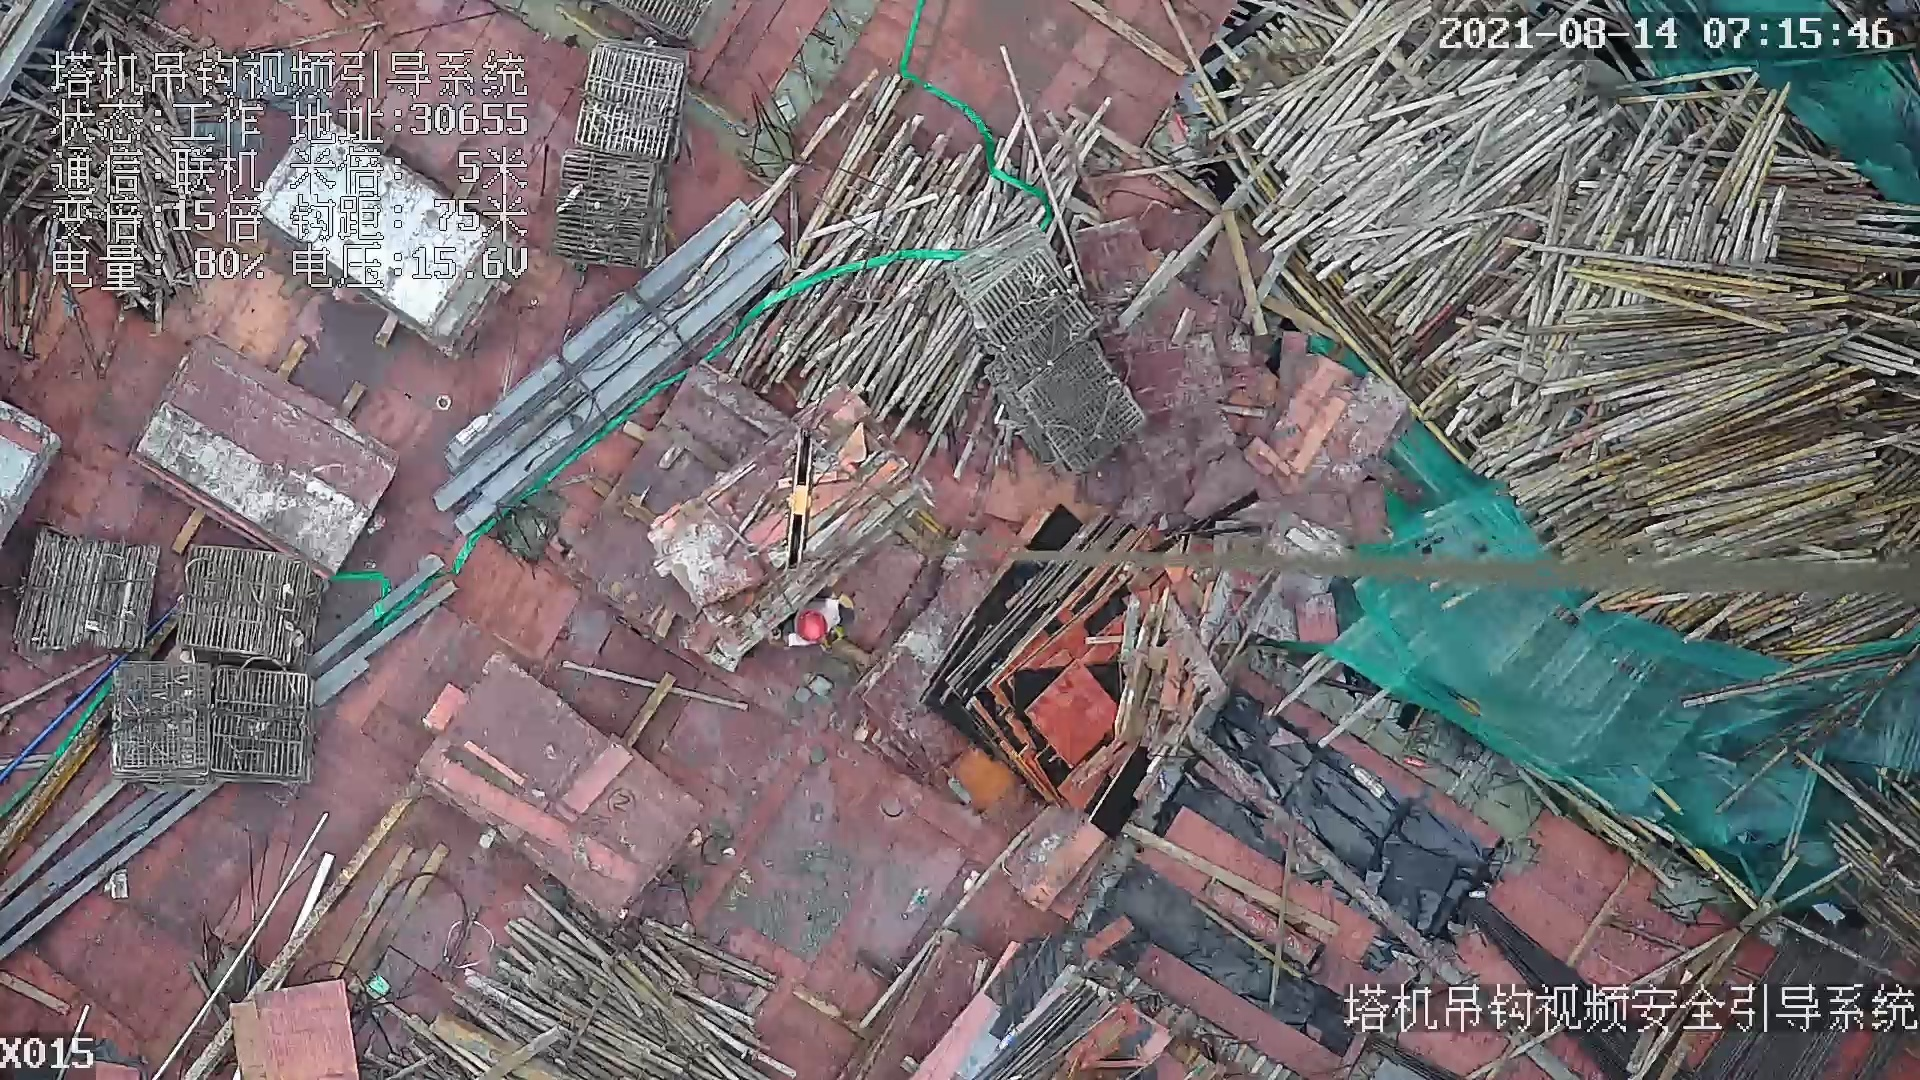helmet: (792, 606, 834, 642)
hook: (773, 428, 818, 576)
person: (754, 586, 850, 655)
